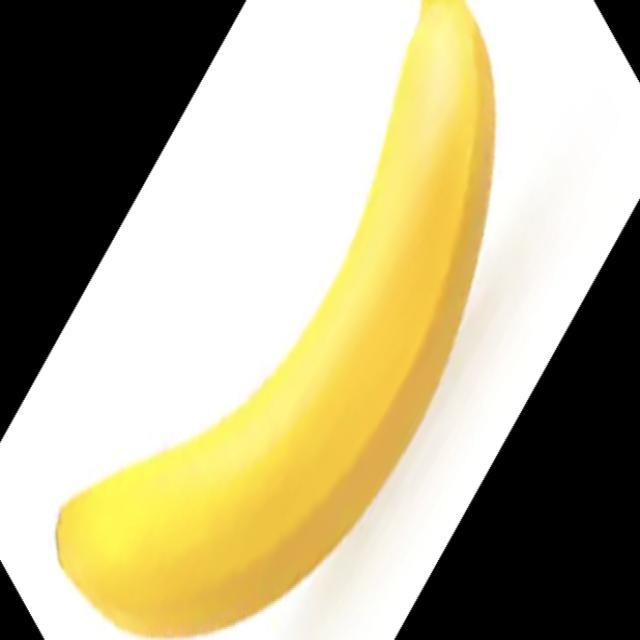Banana: (53, 0, 496, 638)
